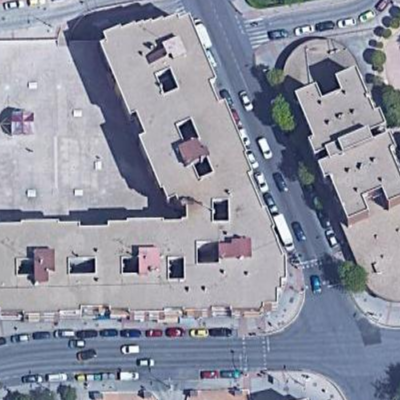tree: (267, 94, 305, 139), (331, 255, 371, 297), (374, 79, 400, 129), (295, 156, 324, 192), (265, 64, 286, 92), (370, 46, 390, 72), (58, 380, 78, 400), (381, 25, 394, 44)
